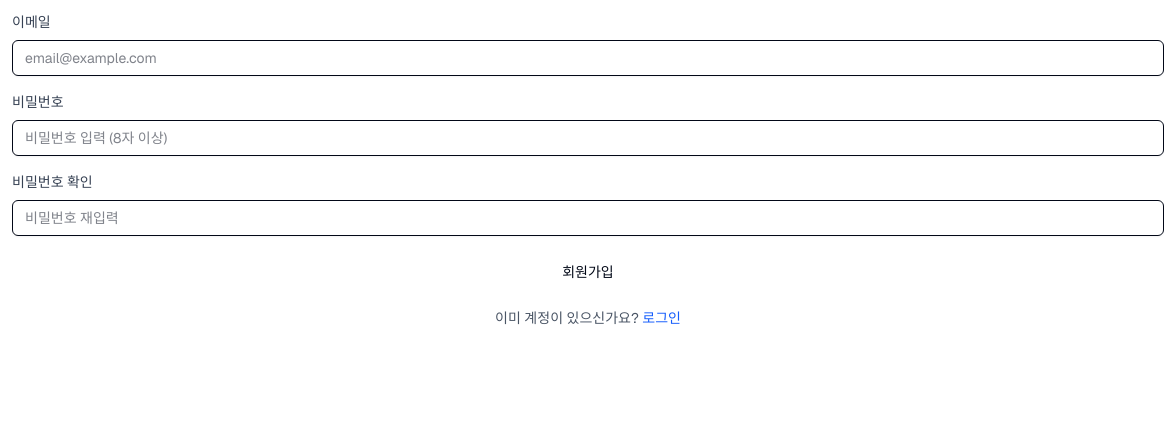
it: SignupForm › SPEC-AUTH-002 TAG-6: Rate Limit 에러 처리 › 429 응답 시 Rate Limit 에러 메시지를 표시한다
The width and height of the screenshot is (1176, 422).
Type "test@example.com" into the field labelled "이메일" at (588, 58), box [12, 40, 1164, 76]
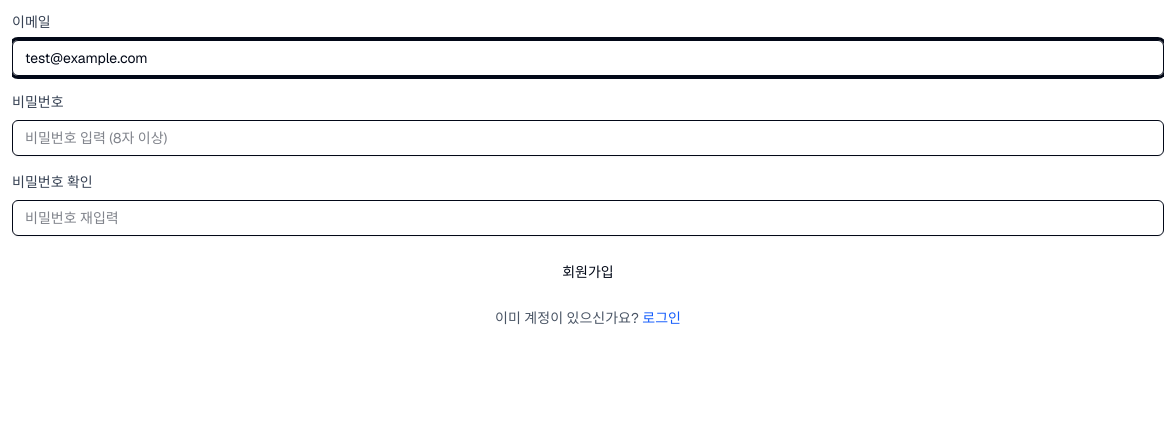
Type "password123456" into the password field labelled "비밀번호" at (588, 138), box [12, 120, 1164, 156]
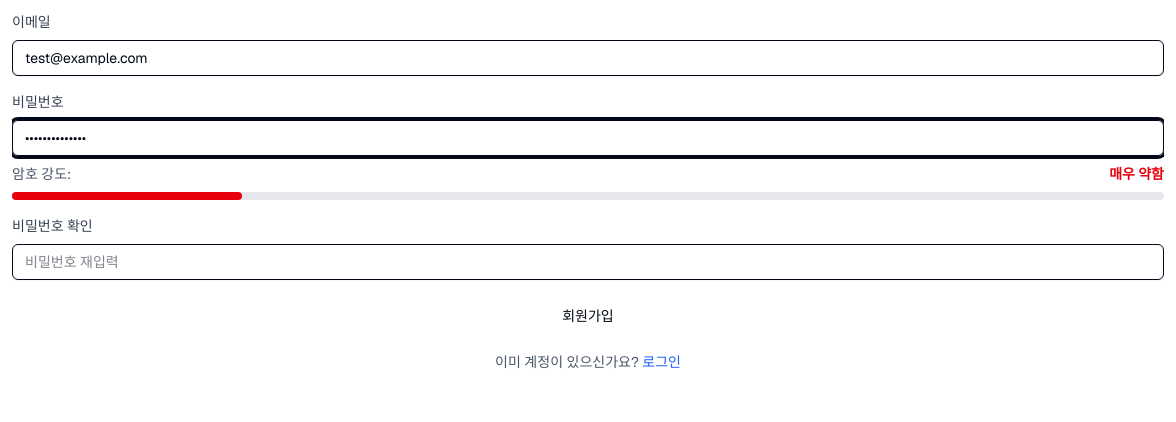
Type "password123456" into the password field labelled "비밀번호 확인" at (588, 262), box [12, 244, 1164, 280]
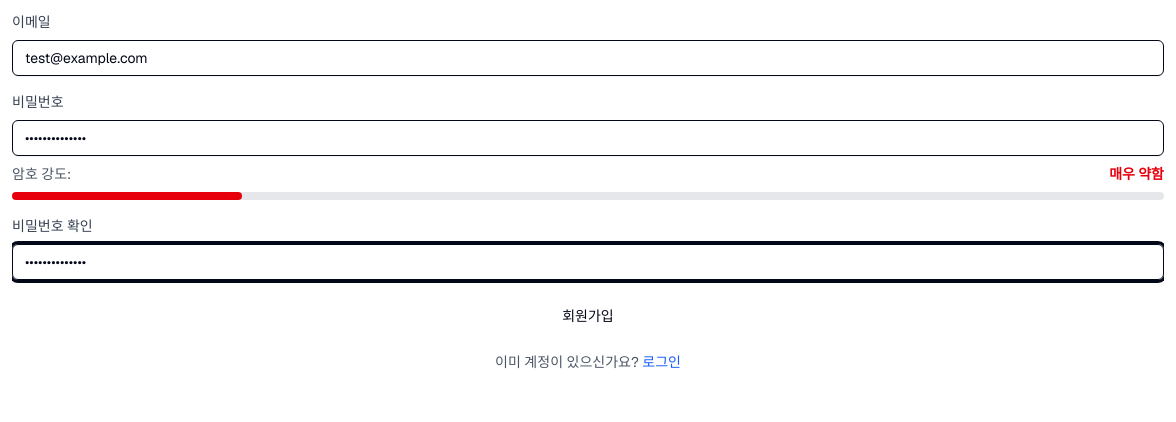
Click the button "회원가입" at (588, 316), box [12, 296, 1164, 336]
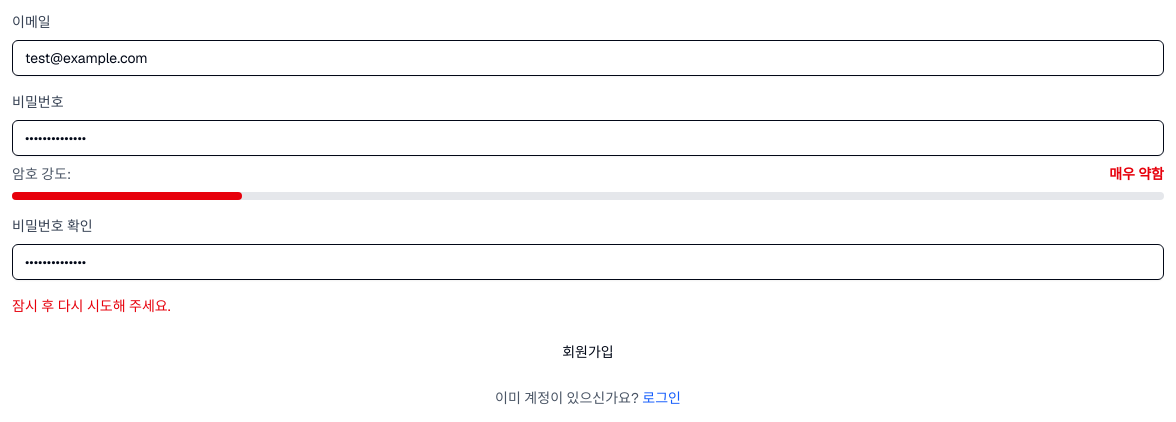
Check: the text "잠시 후 다시 시도해 주세요." is shown, box [12, 297, 170, 315]
